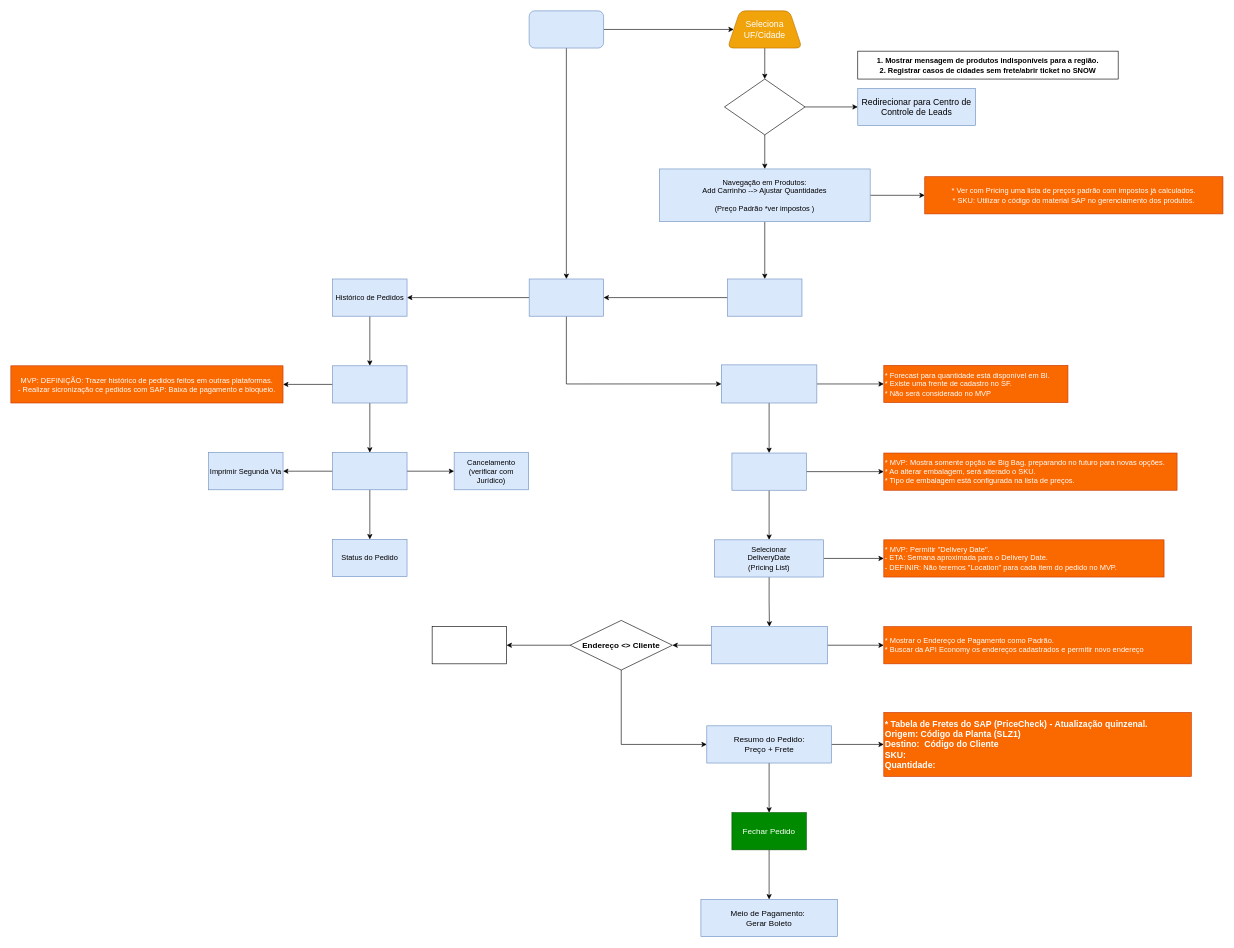
Some shapes in this 1234 by 948 pixel diagram are drawn without their labels. The shapes that lost their labels are listed below. From the top down, each one's centre as x and y in pixels, then its label:
the point at 566,29: Cliente
the point at 764,106: Cidade sem Frete
the point at 566,297: Autentica/Cadastra Cliente (API Economy)
the point at 764,297: Checkout (Comprar Produto)
the point at 369,384: Meus Pedidos Online
the point at 769,383: Ver carrinho e ajustar Pedido
the point at 369,471: Visualizar Pedido
the point at 768,471: Selecionar Embalagem (Big Bag)
the point at 469,645: Cadastrar Novo
the point at 769,645: Endereço de Entrega
